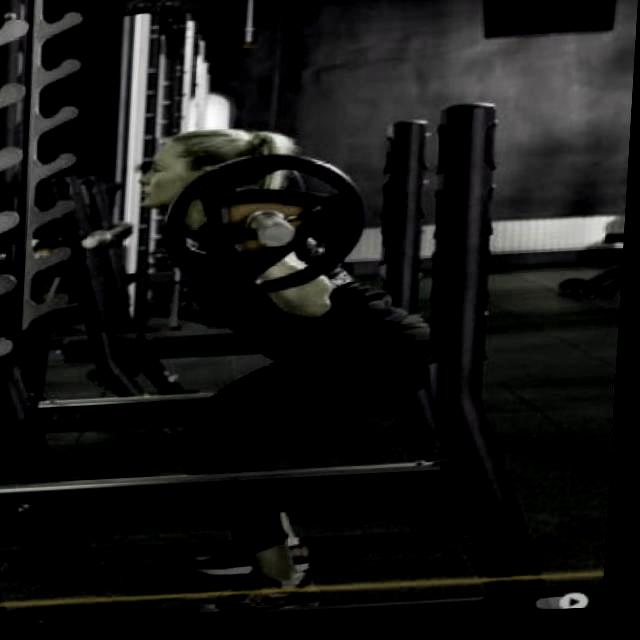barbell: (161, 151, 375, 306)
